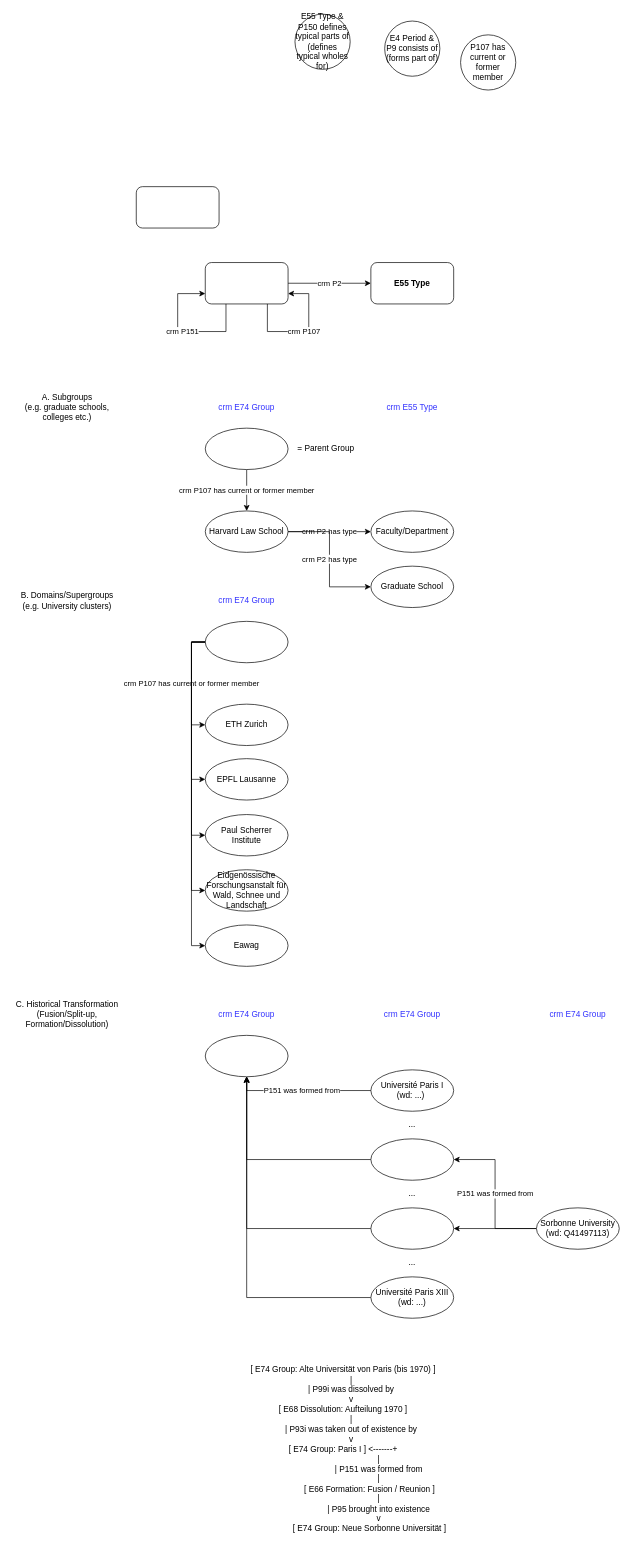
Image size: 631x1546. Some labels were removed from this diagram. Here are the shapes that lost their labels. From the top down, the centre of each, then its label:
[177,207]: Formation
[246,283]: E74 Group
[246,448]: Harvard University
[246,642]: ETH Domain (wd:Q664875)
[246,1056]: University of Paris (wd: Q209842 )
[412,1159]: Université Paris IV (wd: Q546118) )
[412,1228]: Université Paris VI (wd: Q1144549) )
